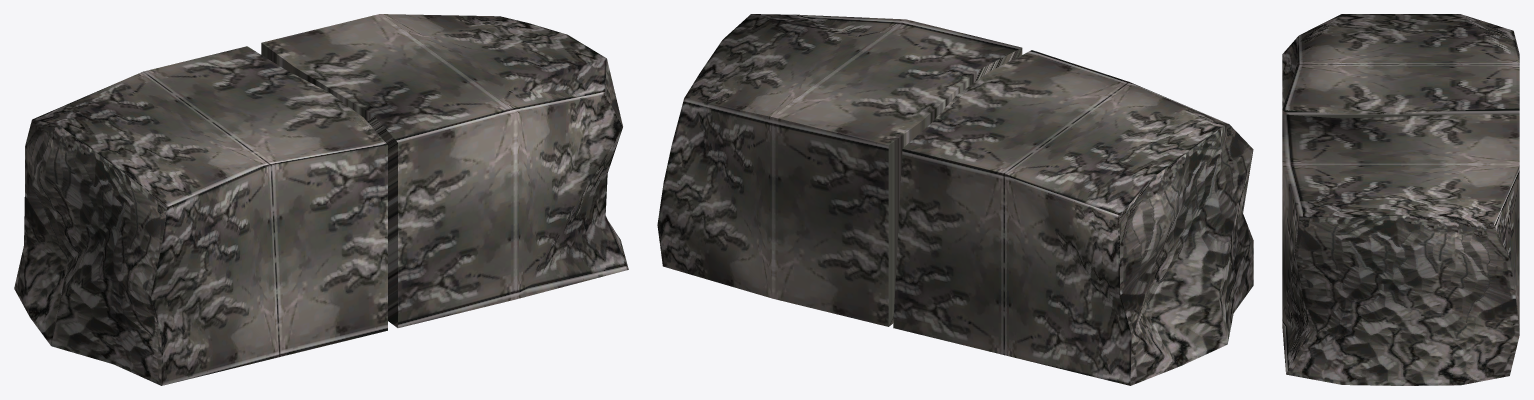
The model's file is INST_SM_DEBRIS_BLOCK_MEDIUMA.fbx.
3 views of the same model, side by side, from view 1: azimuth 30°, elevation 25°; view 2: azimuth 150°, elevation 25°; view 3: azimuth 270°, elevation 25° (orthographic). The views are drawn at different scales.
Parts seen in each view (by area): view 1: INST_SM_DEBRIS_BLOCK_MEDIUMA; view 2: INST_SM_DEBRIS_BLOCK_MEDIUMA; view 3: INST_SM_DEBRIS_BLOCK_MEDIUMA.
Part boxes in pixels (x1=…): INST_SM_DEBRIS_BLOCK_MEDIUMA: x1=14, y1=14, x2=628, y2=385; INST_SM_DEBRIS_BLOCK_MEDIUMA: x1=657, y1=14, x2=1253, y2=385; INST_SM_DEBRIS_BLOCK_MEDIUMA: x1=1282, y1=14, x2=1519, y2=385.
Size of the model in its own units: 45526 by 15000 by 20000.
2 materials, 2 textured.
